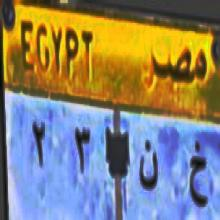2: (33, 114, 47, 168)
3: (74, 121, 93, 181)
khaa: (184, 139, 208, 218)
noon: (140, 136, 160, 198)
